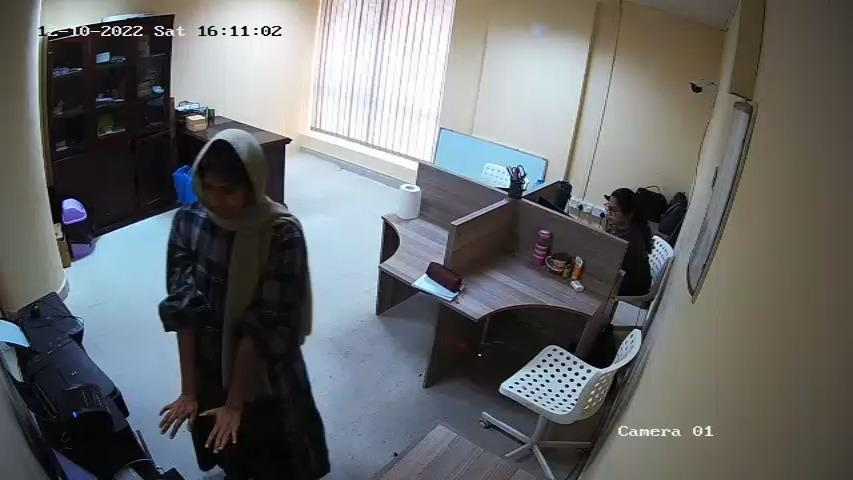no_apron: (200, 400, 246, 458), (155, 387, 197, 440)
no_gloves: (180, 131, 278, 184), (602, 182, 651, 212)
no_hairnet: (194, 186, 262, 230), (602, 204, 636, 229)
